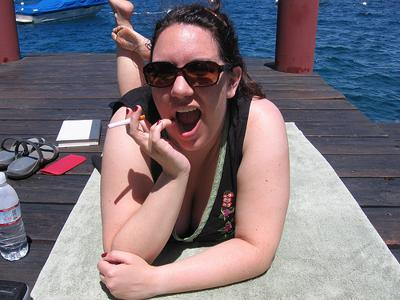person: (97, 2, 291, 300)
